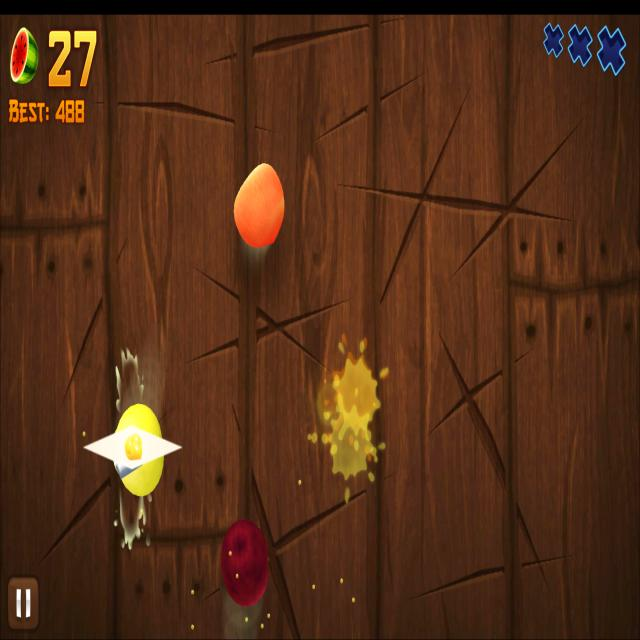fruit: (115, 403, 165, 498), (220, 518, 270, 606), (233, 164, 285, 247)
